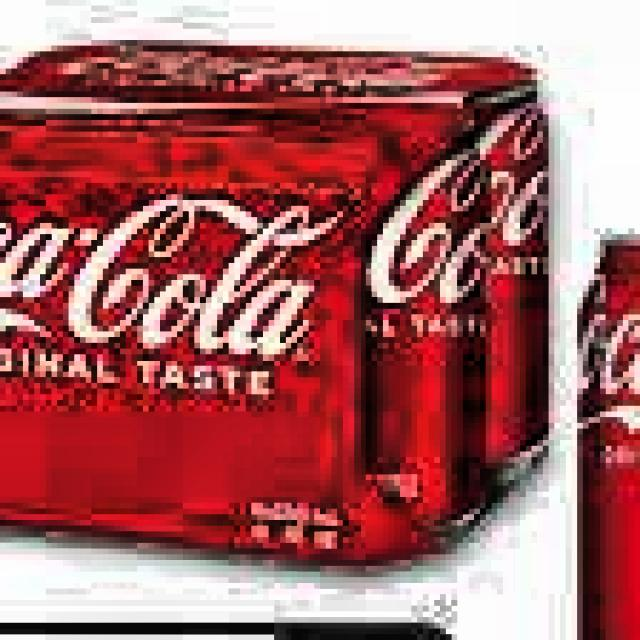metal: (349, 109, 497, 566), (451, 66, 566, 494), (565, 211, 640, 639)
